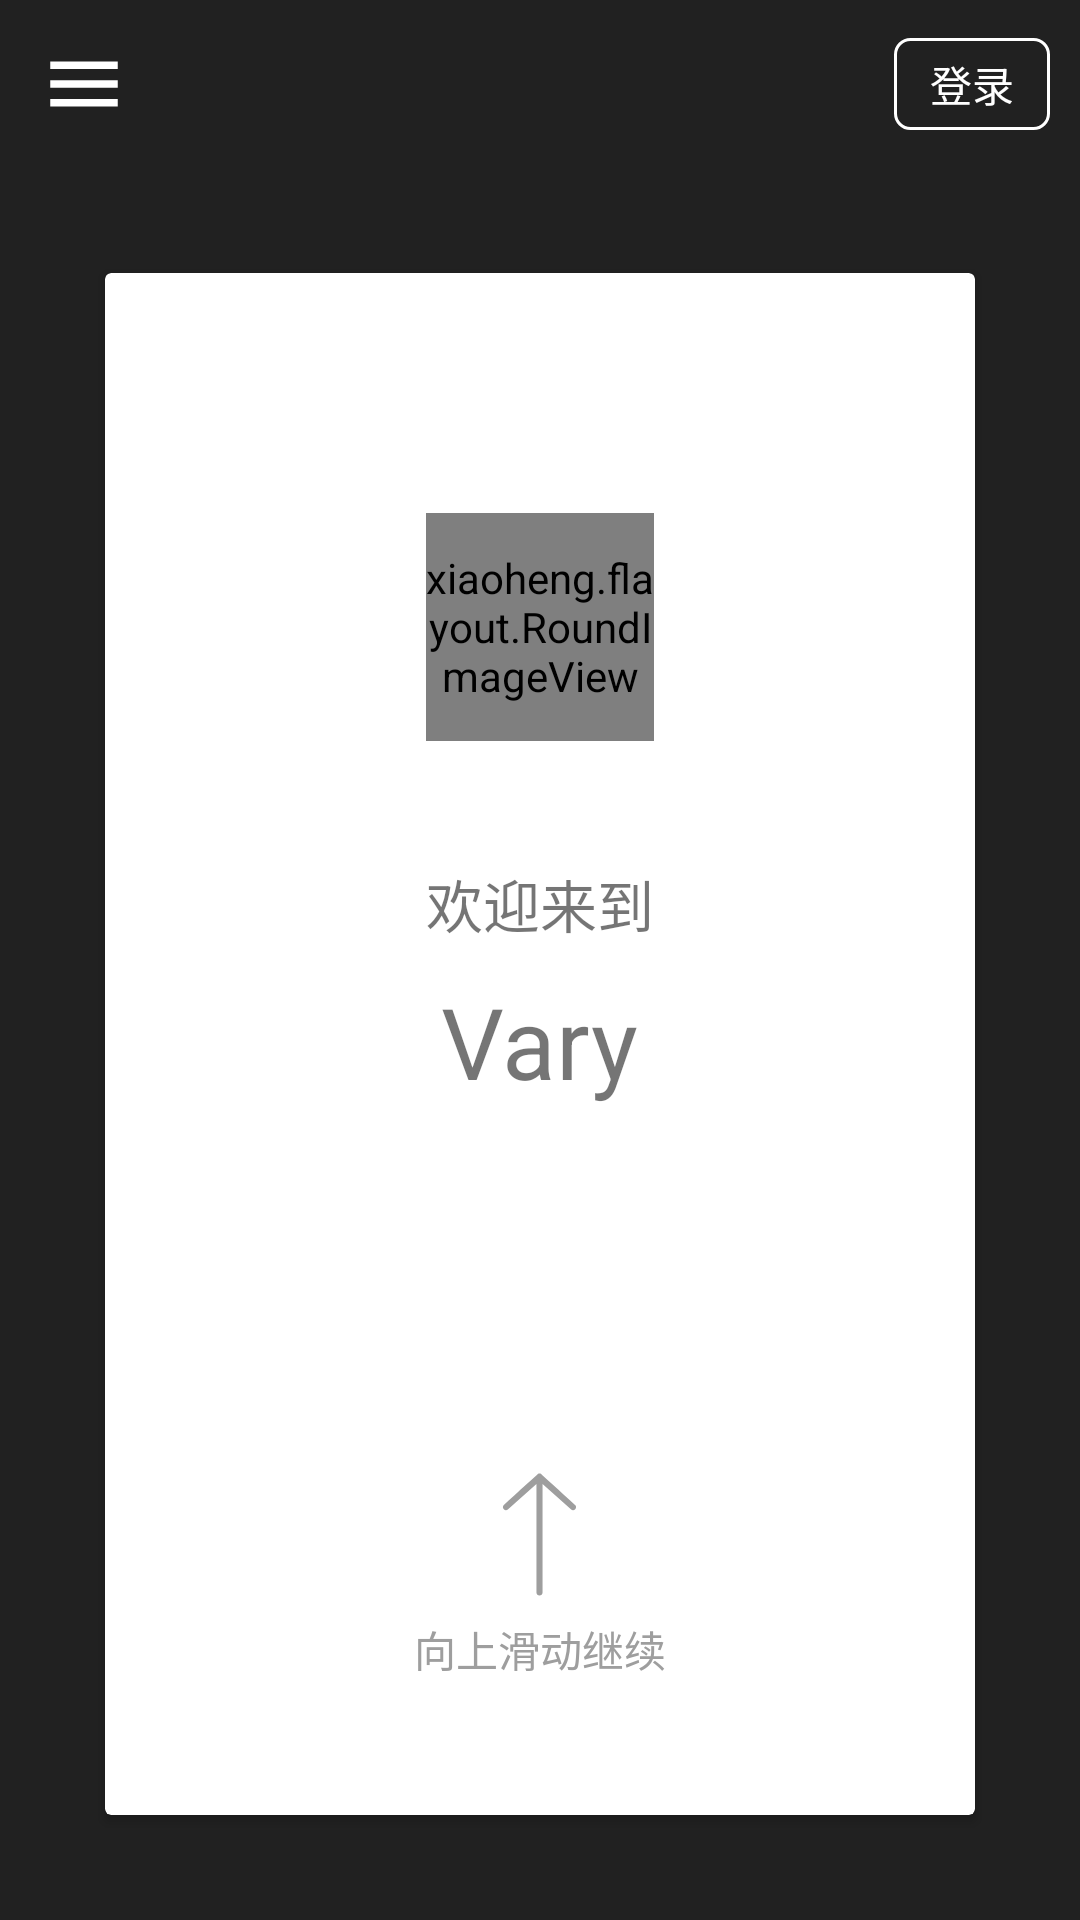

Icons on this 1080x1920 Android screen, each with the point to tap as (x=x, y=y):
up arrow: (x=539, y=1534)
